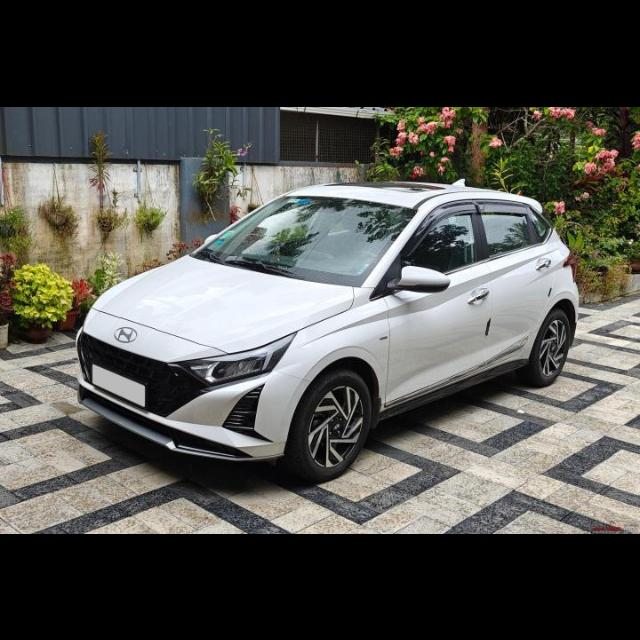vehicles: (71, 178, 581, 472)
